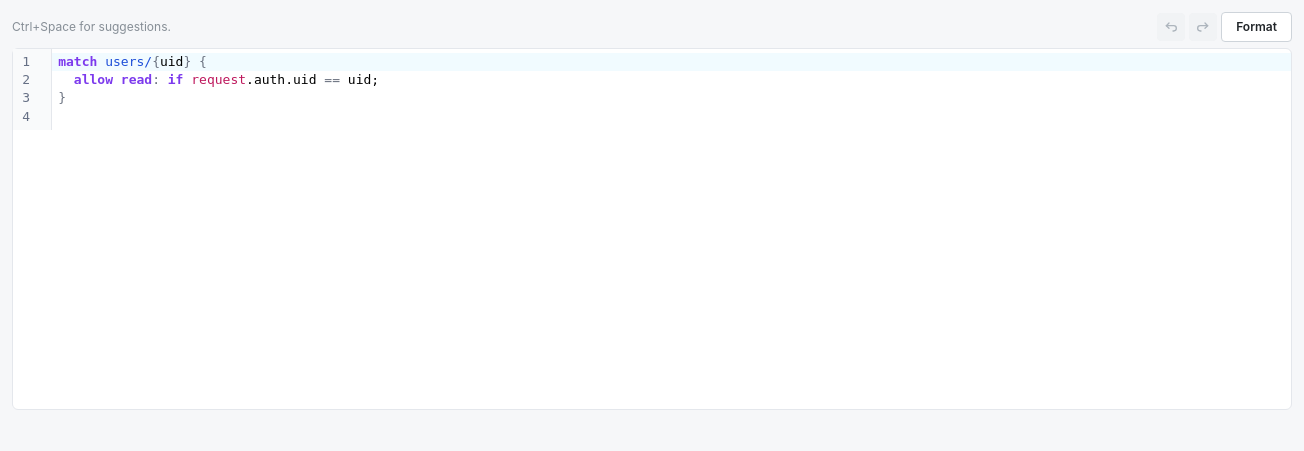
Test: check() returns the rules, or null with the error shown
Type "x" into the field named "Rules".
click(672, 62); type("x")  # box [52,53,1291,105]
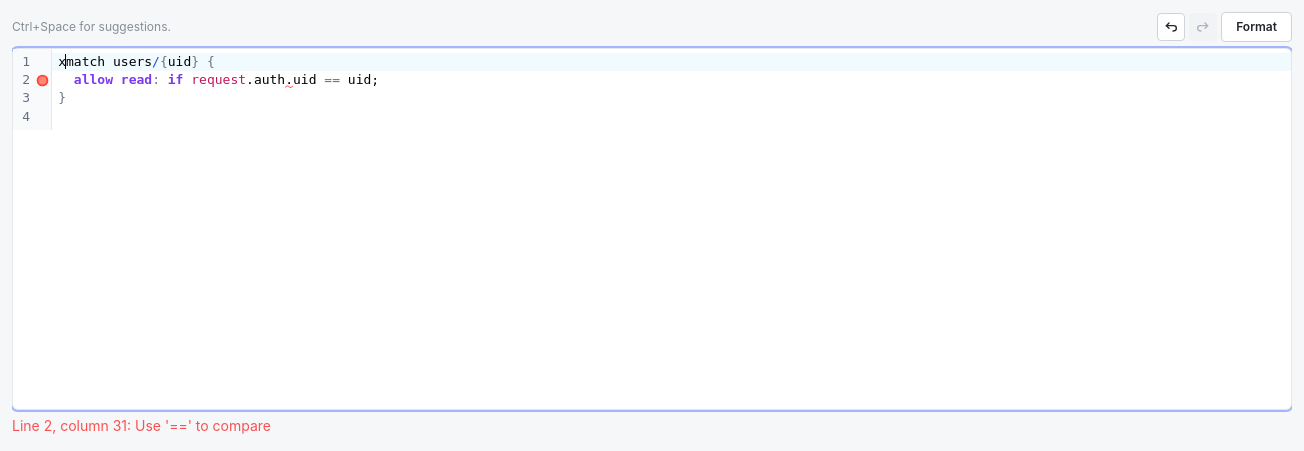
Expected: the message reads "Line 2, column 31: Use '==' to compare", [12,417,271,434]
Type "y" into the field named "Rules".
click(672, 62); type("y")  # box [52,53,1291,105]
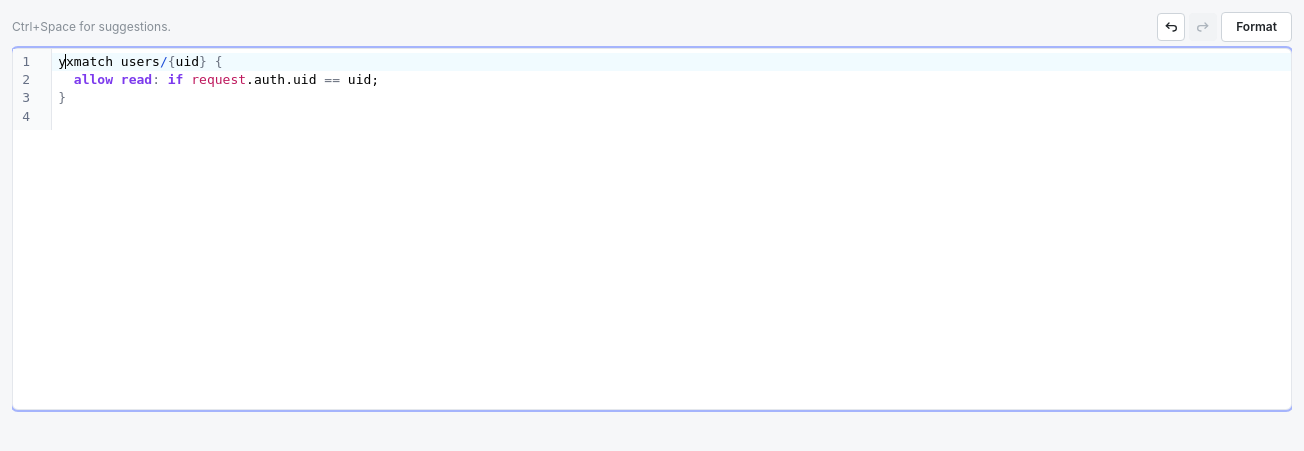
Expected: the message "Line 2, column 31: Use '==' to compare" is gone
